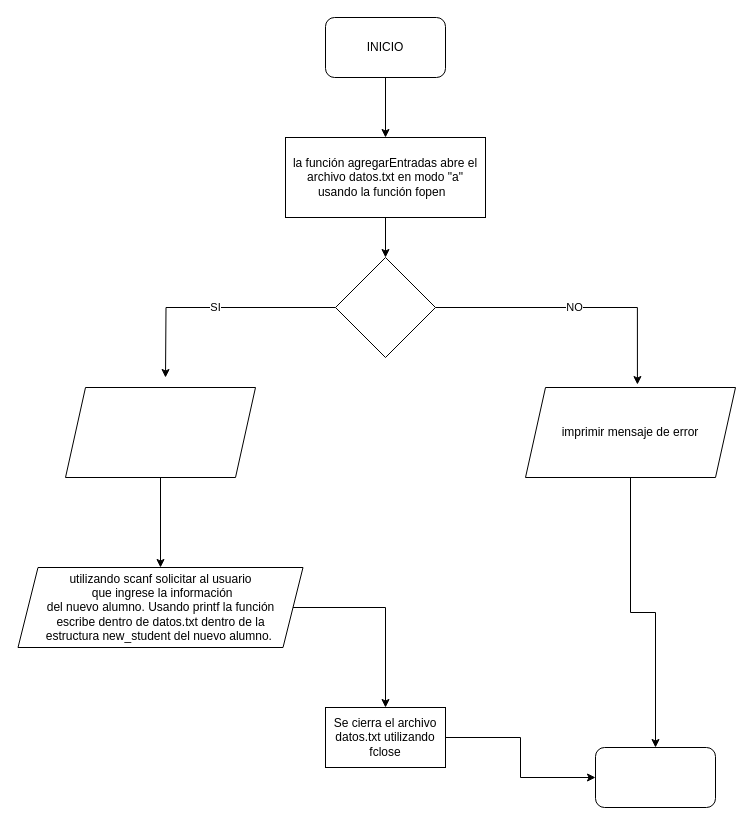
The diagram is 753 pixels wide and 825 high, and some of its shapes have lost their labels. Each missing label, with the centre of its shape:
abrir archivo: [385,307]
crear una estructura tipo student llamada new_student: [160,432]
FIN: [655,777]
